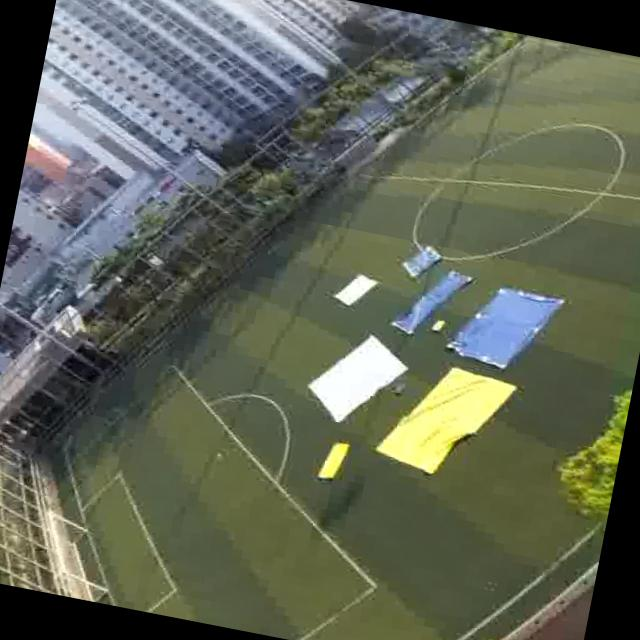danger: (474, 286, 555, 370), (394, 235, 450, 283), (390, 285, 438, 339)
safety: (320, 328, 402, 418), (328, 261, 386, 318)
warning: (408, 363, 498, 480), (315, 437, 358, 483)
